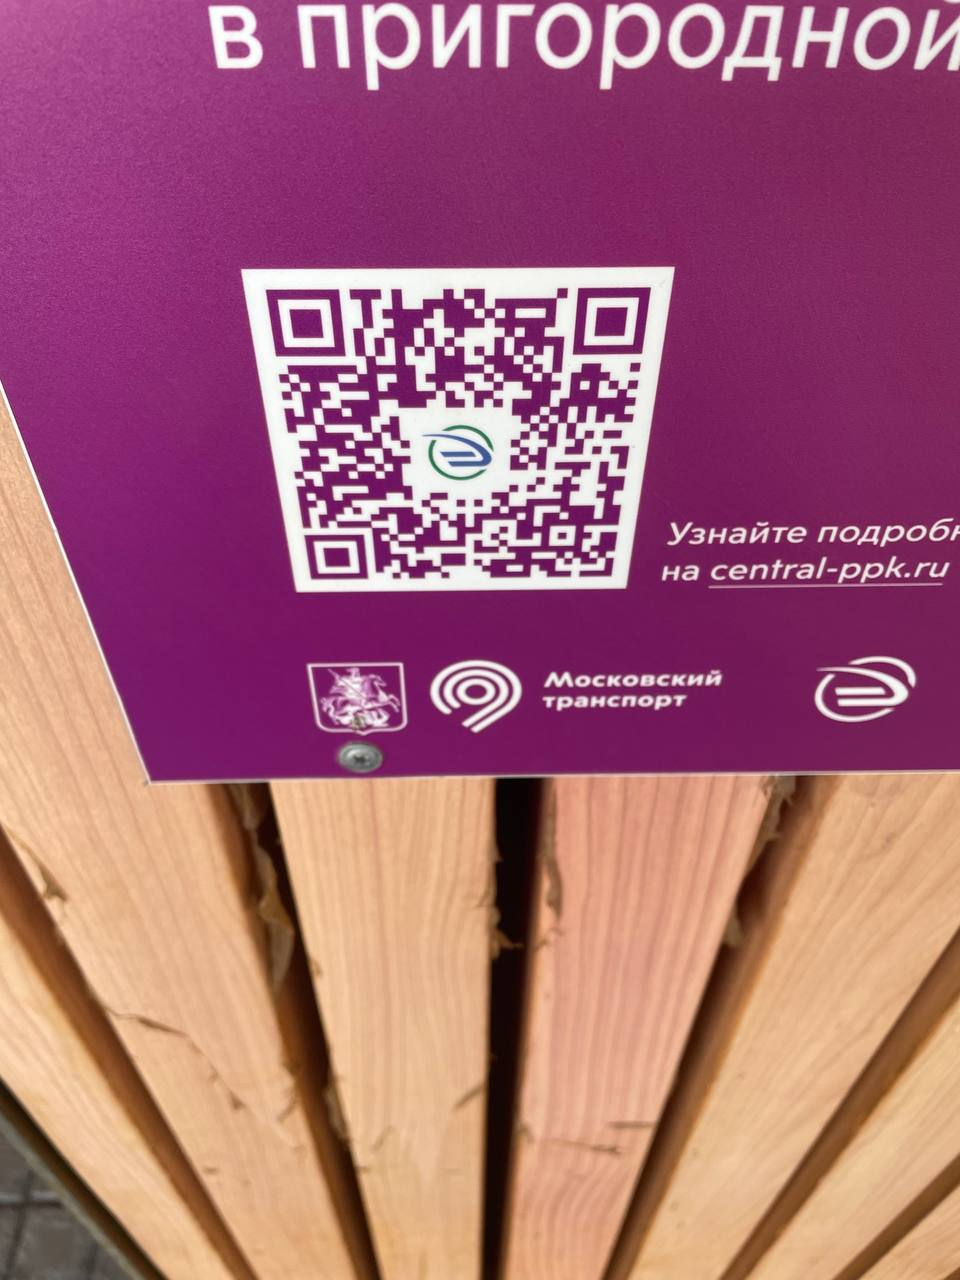2d: (265, 285, 655, 582)
